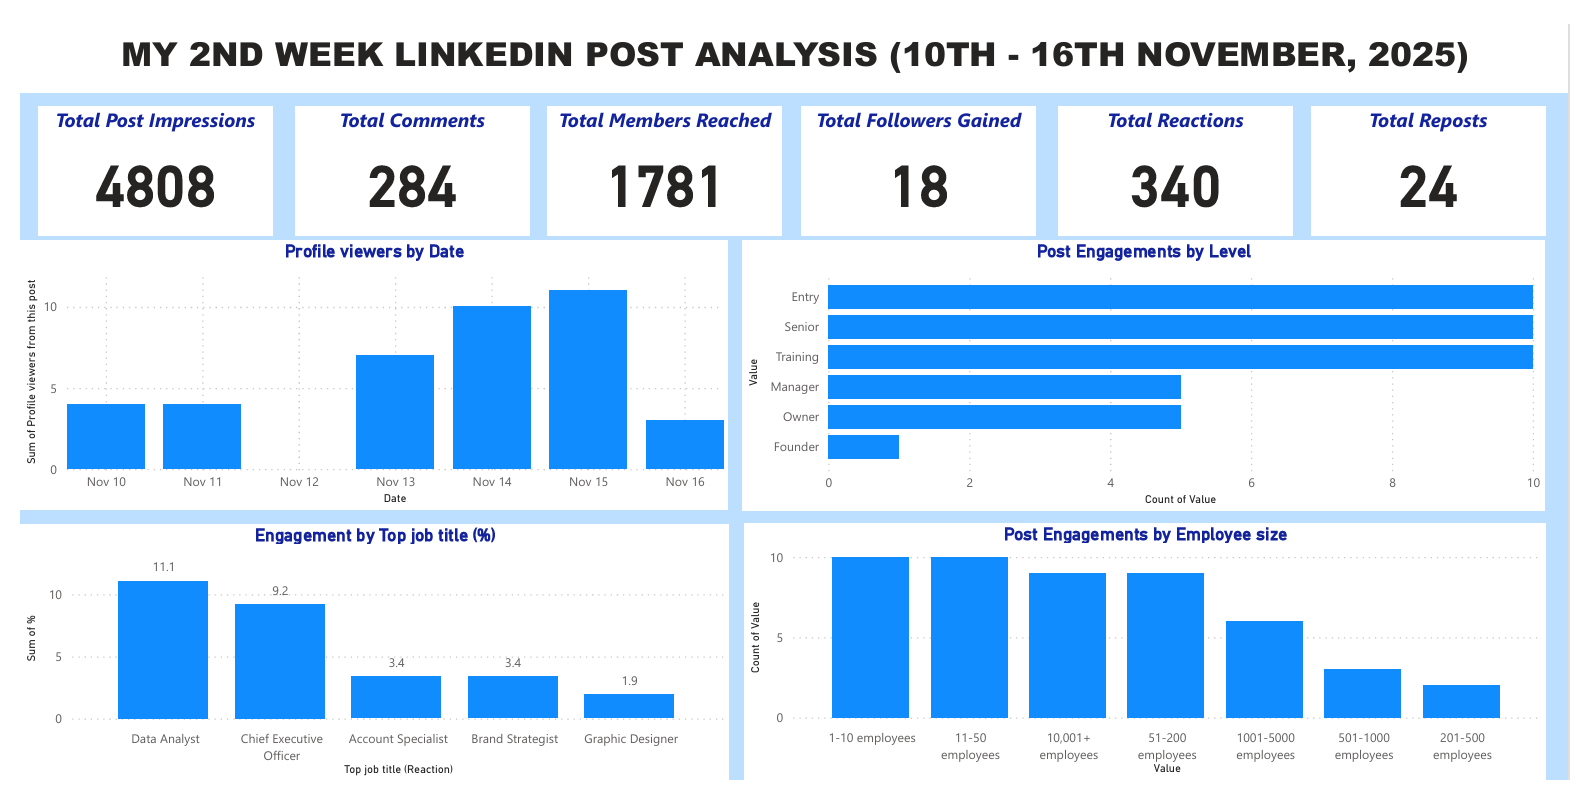

The page's visual inventory and layout, read from the dashboard file:
{"tool":"powerbi","page":{"name":"PAGE 2","canvas":[1500,732],"ordinal":1},"visuals":[{"type":"textbox","box":[0,0,1500.6,64.6],"z":0},{"type":"card","title":"Total Post Impressions","fields":{"Values":["Sum(POST IMPRESSIONS.Impressions)"]},"box":[16.6,79.4,227,125.5],"z":1000},{"type":"card","title":"Total Comments","fields":{"Values":["Sum(POST IMPRESSIONS.Comments)"]},"box":[265.8,79.4,227,125.5],"z":2000},{"type":"card","title":"Total Members Reached","fields":{"Values":["Sum(POST IMPRESSIONS.Members reached)"]},"box":[511.3,79.4,227,125.5],"z":3000},{"type":"card","title":"Total Followers Gained","fields":{"Values":["Sum(POST IMPRESSIONS.Followers gained from this post)"]},"box":[756.8,79.4,227,125.5],"z":4000},{"type":"card","title":"Total Reactions","fields":{"Values":["Sum(POST IMPRESSIONS.Reactions)"]},"box":[1006,79.4,227,125.5],"z":5000},{"type":"card","title":"Total Reposts","fields":{"Values":["Sum(POST IMPRESSIONS.Reposts)"]},"box":[1251.5,79.4,227,125.5],"z":6000},{"type":"clusteredColumnChart","title":"Profile viewers by Date","fields":{"Category":["DEMOGRAPHICS.Date"],"Y":["Sum(POST IMPRESSIONS.Profile viewers from this post)"]},"box":[0,208.9,685.9,261.5],"z":7000},{"type":"clusteredColumnChart","title":"Engagement by Top job title (%)","fields":{"Category":["POST IMPRESSIONS.Top job title (Reaction)"],"Y":["Sum(DEMOGRAPHICS.%)"]},"box":[0,483.6,686.6,249.2],"z":8000},{"type":"barChart","title":"Post Engagements by Level","fields":{"Y":["CountNonNull(DEMOGRAPHICS.Value)"],"Category":["DEMOGRAPHICS.Value"]},"box":[699.7,209,777.9,261.7],"z":9000},{"type":"columnChart","title":"Post Engagements by Employee size","fields":{"Category":["DEMOGRAPHICS.Value"],"Y":["CountNonNull(DEMOGRAPHICS.Value)"]},"box":[701.5,483.4,777.9,249],"z":10000}]}

Visuals, with their boxes on the page's 1500x732 design canvas (x1, y1, x2, y2). These are canvas units, not pixel positions in the 1595x805 screenshot, which may show the page scaled, cropped or inside an application window:
textbox: region(0, 0, 1501, 65)
"Total Post Impressions" card: region(17, 79, 244, 205)
"Total Comments" card: region(266, 79, 493, 205)
"Total Members Reached" card: region(511, 79, 738, 205)
"Total Followers Gained" card: region(757, 79, 984, 205)
"Total Reactions" card: region(1006, 79, 1233, 205)
"Total Reposts" card: region(1252, 79, 1478, 205)
"Profile viewers by Date" clusteredColumnChart: region(0, 209, 686, 470)
"Engagement by Top job title (%)" clusteredColumnChart: region(0, 484, 687, 733)
"Post Engagements by Level" barChart: region(700, 209, 1478, 471)
"Post Engagements by Employee size" columnChart: region(702, 483, 1479, 732)
